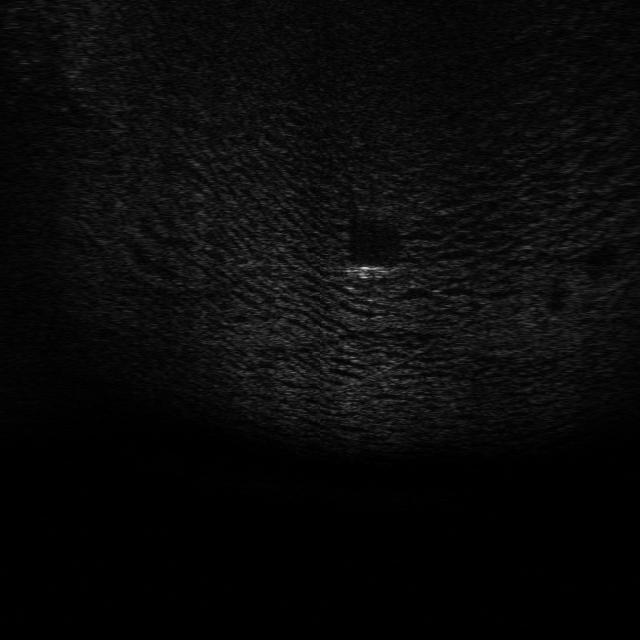plane: (340, 257, 404, 286)
